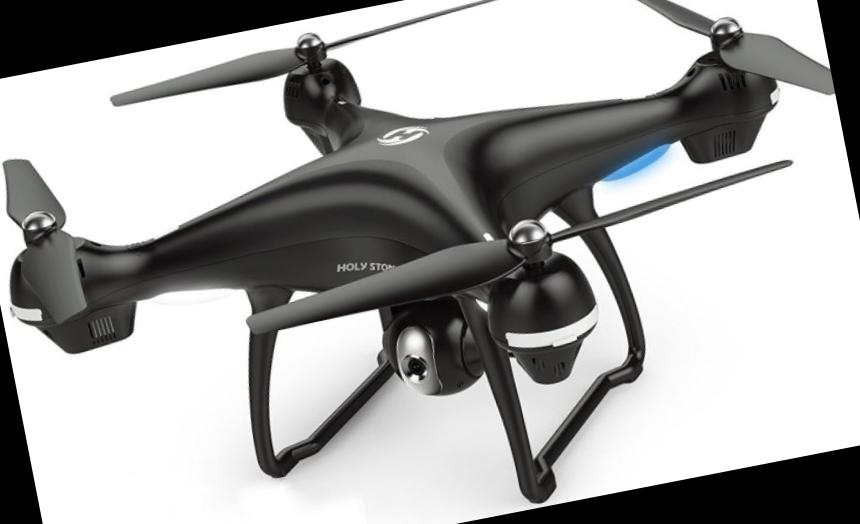drone: (0, 0, 860, 481)
